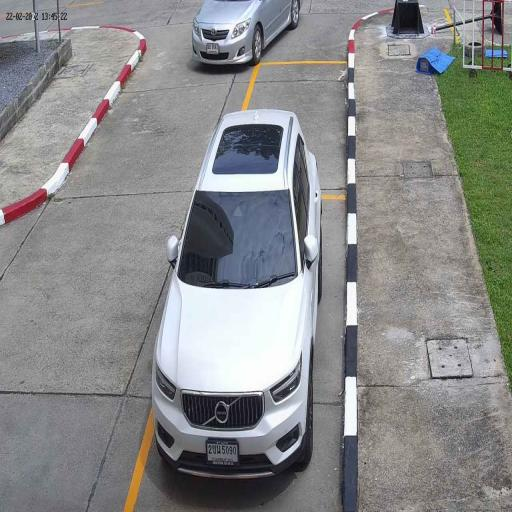car: (150, 107, 324, 491), (190, 0, 303, 70)
